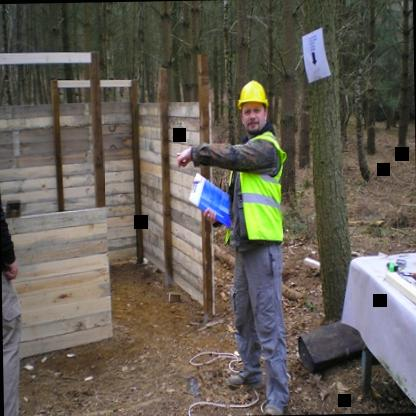helmet: (237, 79, 271, 137)
